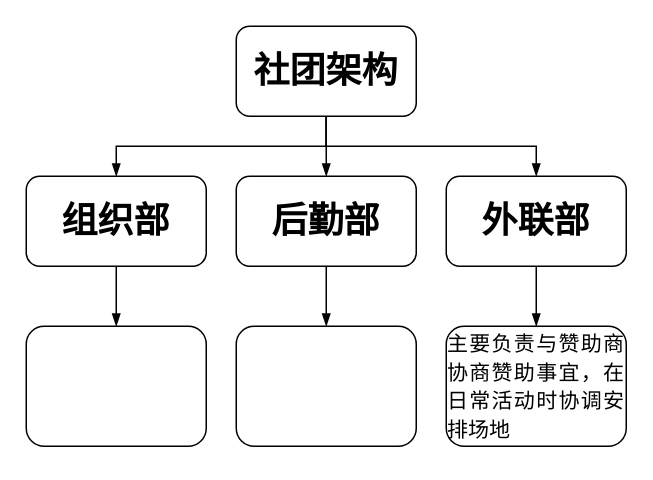
Some shapes in this 653 by 480 pixel diagram are drawn without their labels. Here are the shapes that lost their labels. From the top down, the centre of each, then its label:
At point 115,385: "主要负责定期组织社团活动，保持社团活跃度".
At point 325,385: "主要负责为社团运营提供后勤保障，赛前的物资准备，紧急医疗等".
